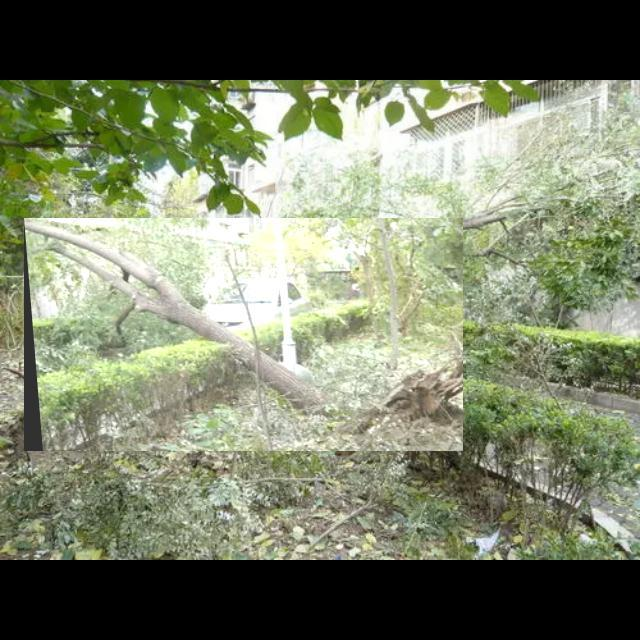fallen_tree: (24, 218, 464, 452)
